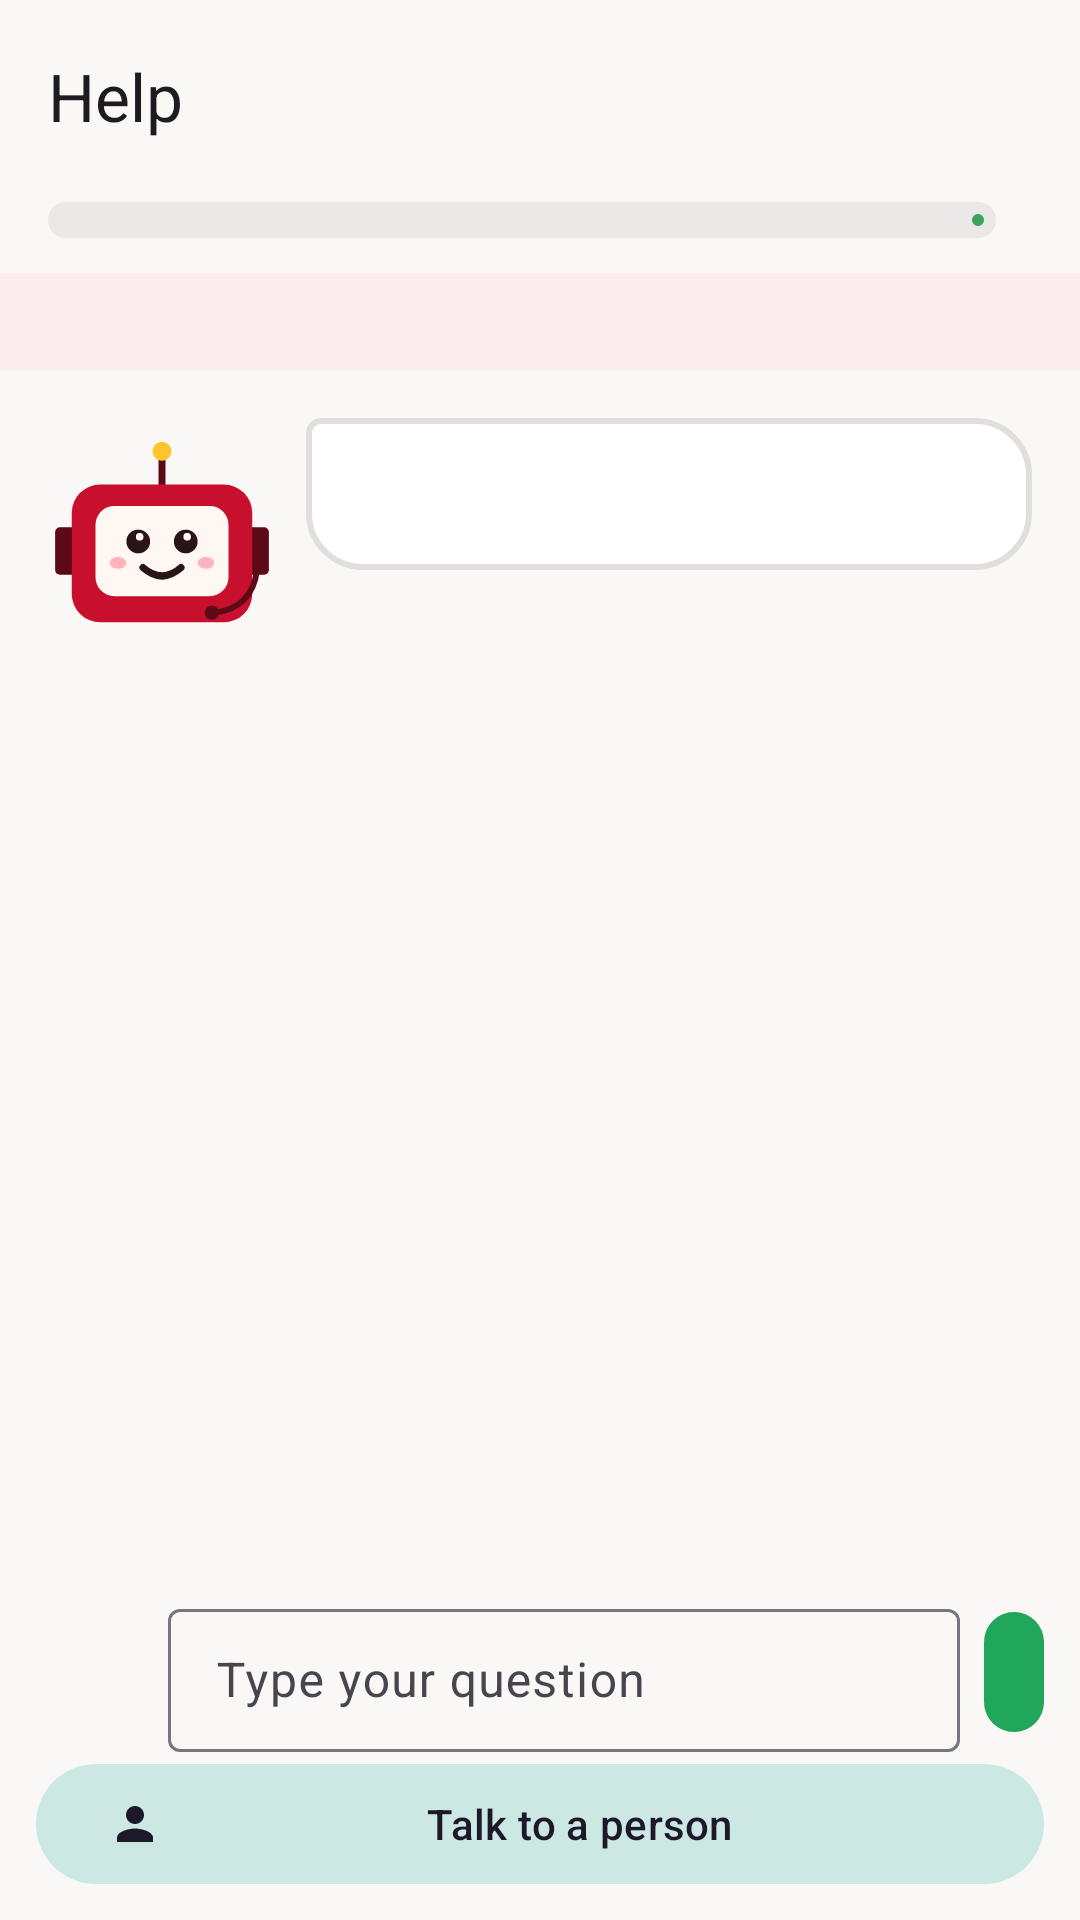

Icons on this 1080px x 1920px Android screen, each with its box as (x1,y1,x2,y2):
Sahay, your help assistant: (55,441,269,623)
